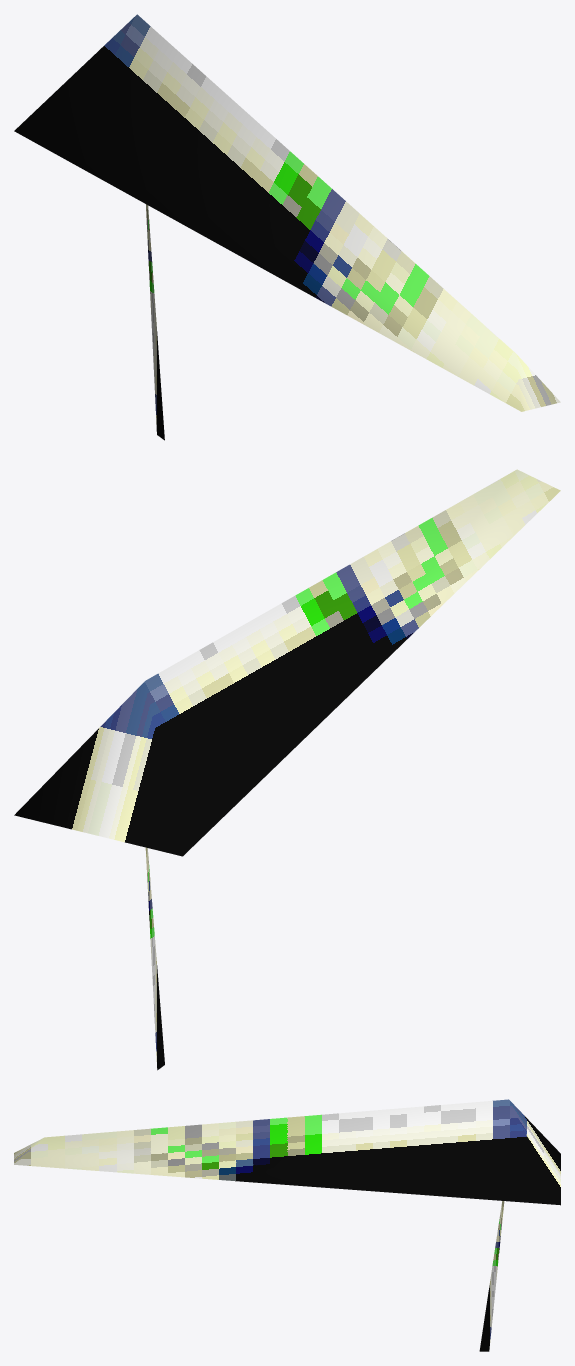
The picture shows the model from 3 angles, top to bottom: view 1: azimuth 30°, elevation 25°; view 2: azimuth 150°, elevation 25°; view 3: azimuth 270°, elevation 25°; orthographic projection. The views are drawn at different scales.
Visible parts, largest first — view 1: 95345ca4, e36226c4; view 2: 95345ca4, e36226c4; view 3: 95345ca4, e36226c4.
Part boxes in pixels (<box>): 95345ca4: <box>14,14,560,411</box>; e36226c4: <box>146,204,164,440</box>; 95345ca4: <box>14,469,560,856</box>; e36226c4: <box>145,847,164,1070</box>; 95345ca4: <box>14,1099,560,1205</box>; e36226c4: <box>479,1201,504,1351</box>.
Size of the model in its own units: 3.11 by 7.09 by 14.01.
Materials: 1 (1 with a texture image).
